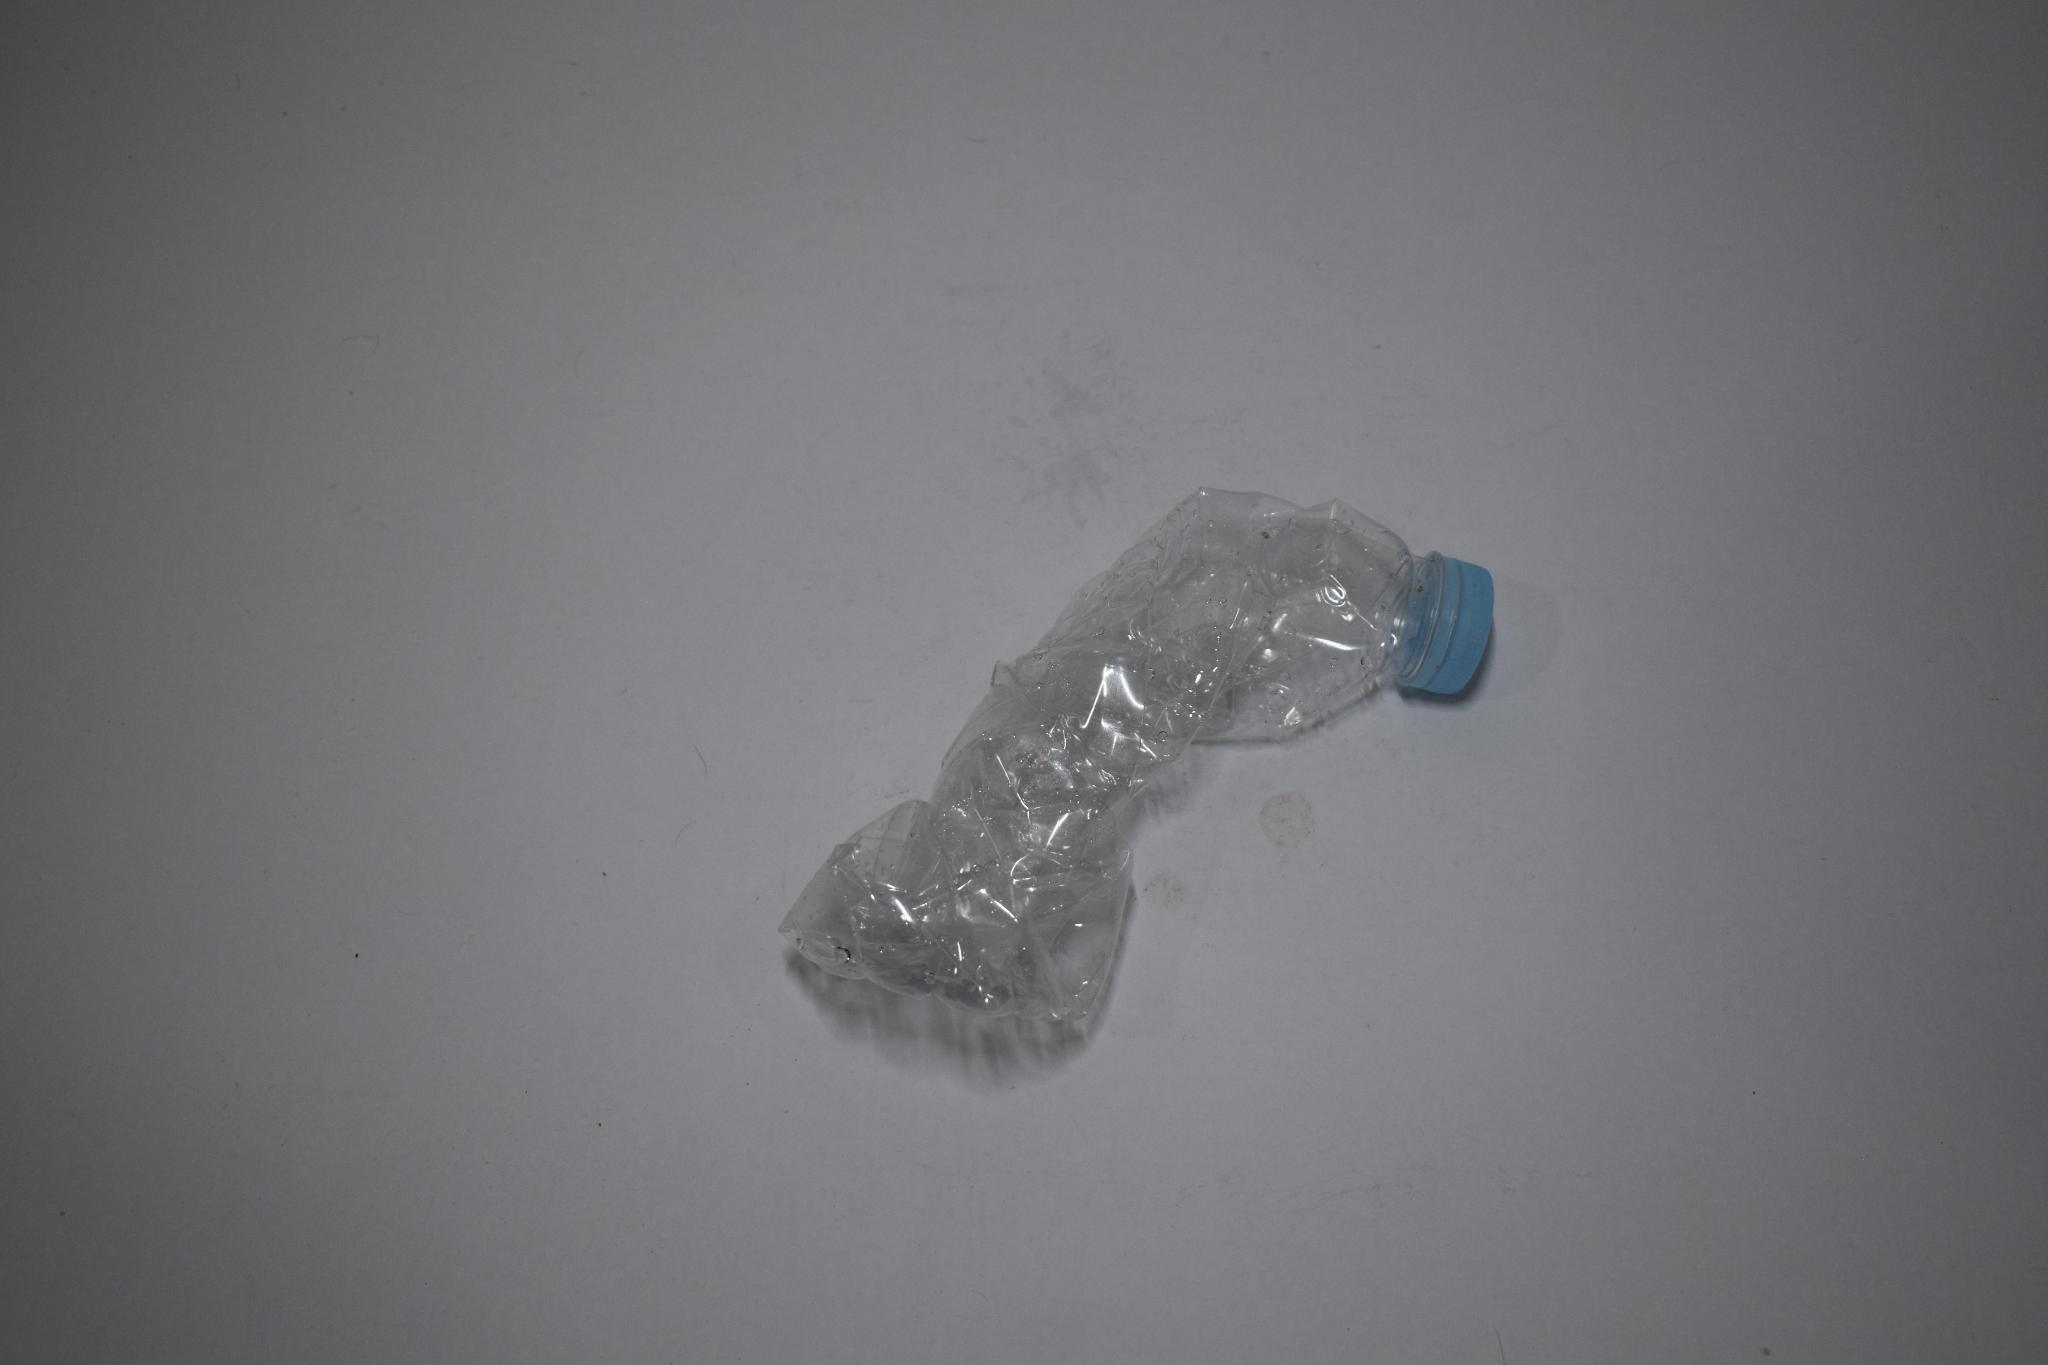bottle: (729, 306, 1625, 1158)
